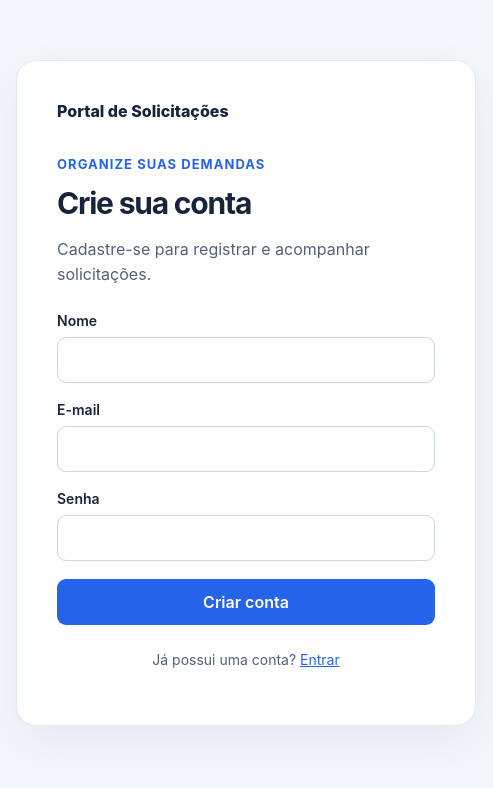
Test: Formulários de autenticação › envia o cadastro com nome e e-mail normalizados
Type "  Ana  " into the field labelled "Nome".
click(246, 360); type("  Ana  ")  # box [57,337,435,383]
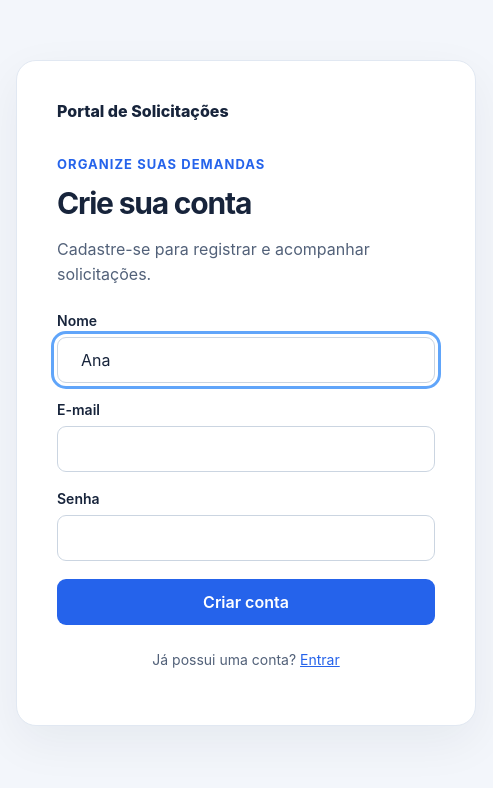
Type "ANA@example.com" into the field labelled "E-mail".
click(246, 449); type("ANA@example.com")  # box [57,426,435,472]
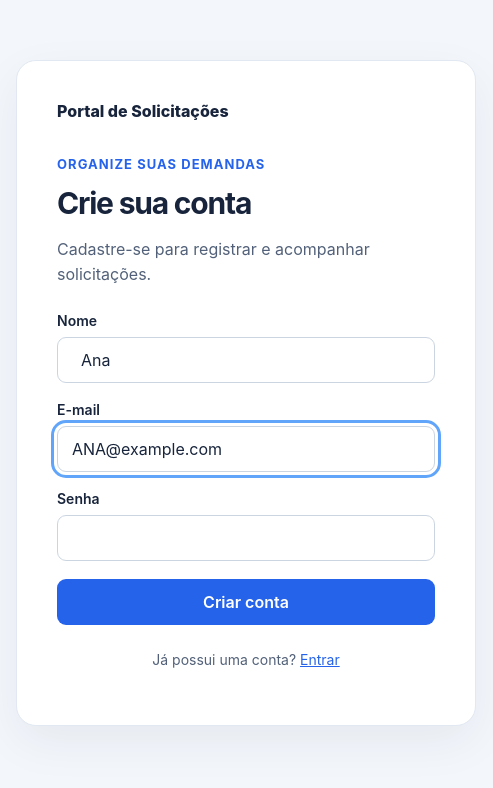
Type "Teste12345!" into the password field labelled "Senha".
click(246, 538); type("Teste12345!")  # box [57,515,435,561]
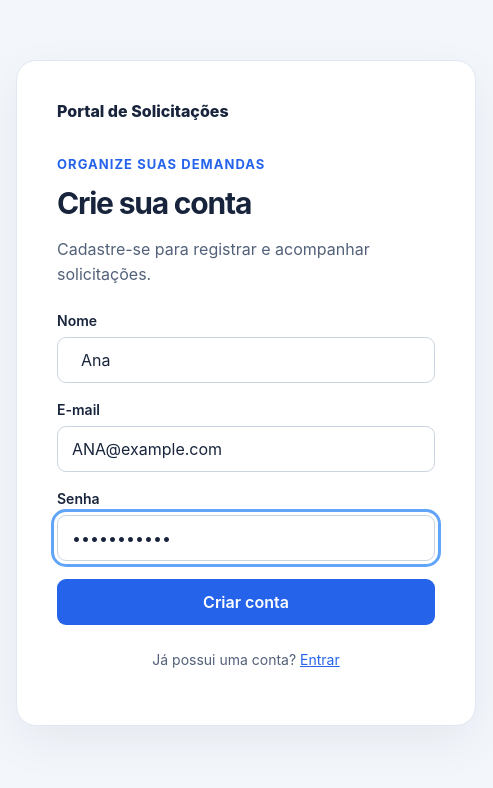
Click the button "Criar conta".
click(246, 602)  # box [57,579,435,625]
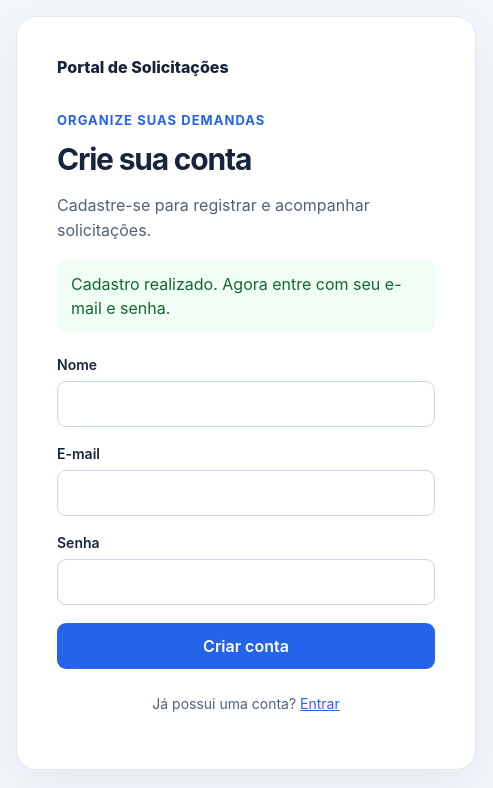
Result: the text "Cadastro realizado. Agora entre com seu e-mail e senha." is shown at [57,260,435,332]
